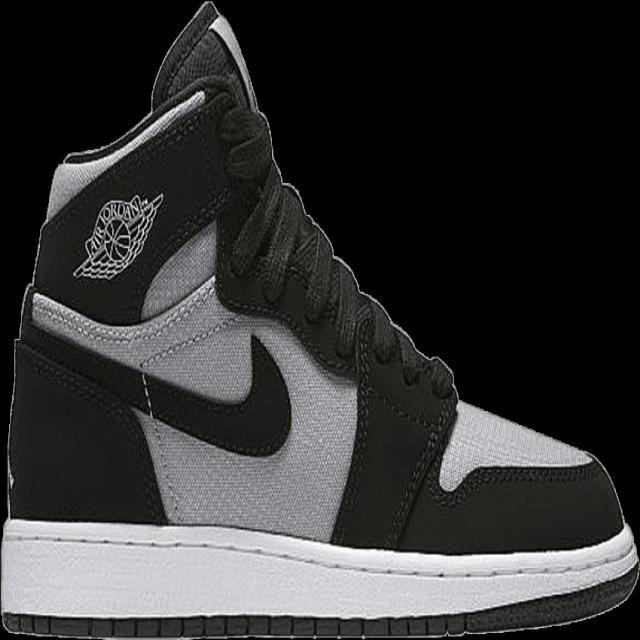J1_InsoleChar: (1, 1, 637, 638)
J1_ShoeLogo: (31, 75, 249, 324), (71, 190, 165, 281)
J1_StitchPattern: (214, 101, 461, 545), (2, 517, 637, 634), (243, 181, 456, 423), (23, 282, 294, 458), (14, 337, 172, 524), (252, 185, 368, 370), (27, 280, 235, 370), (382, 395, 459, 548), (15, 341, 134, 424), (427, 455, 603, 507), (133, 366, 181, 523), (136, 313, 238, 374)
